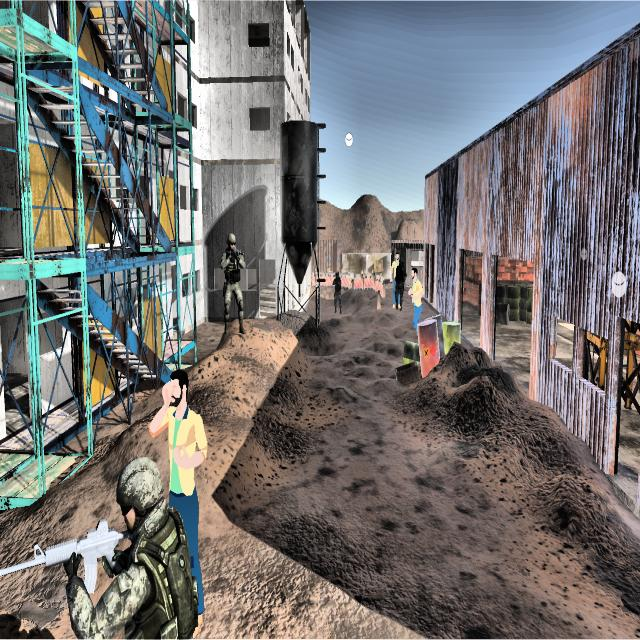bad: (42, 440, 198, 640), (213, 219, 253, 347), (328, 268, 347, 322), (394, 256, 407, 309)
good: (153, 361, 212, 559), (407, 266, 427, 340)
